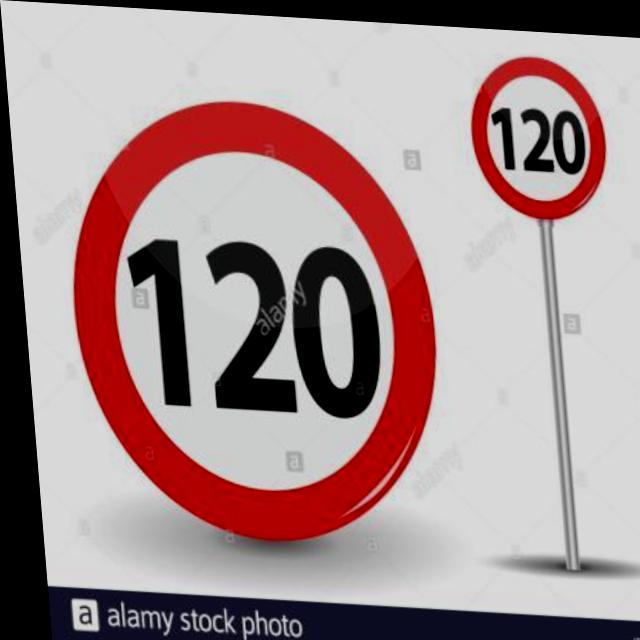limit120: (42, 79, 449, 554), (451, 40, 617, 219)
